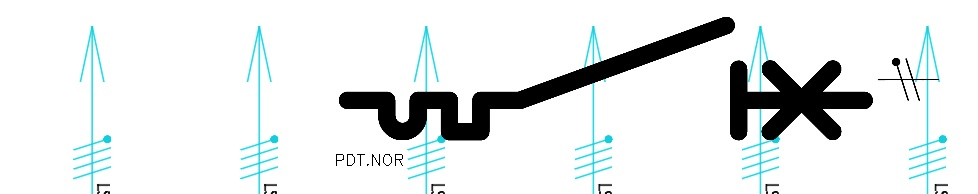interruptor_termomagnetico: (334, 12, 877, 145)
